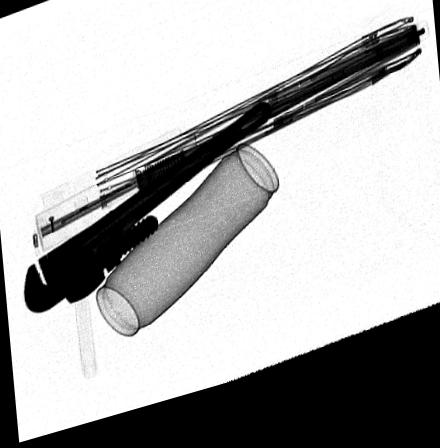Wrench: (23, 115, 273, 318)
